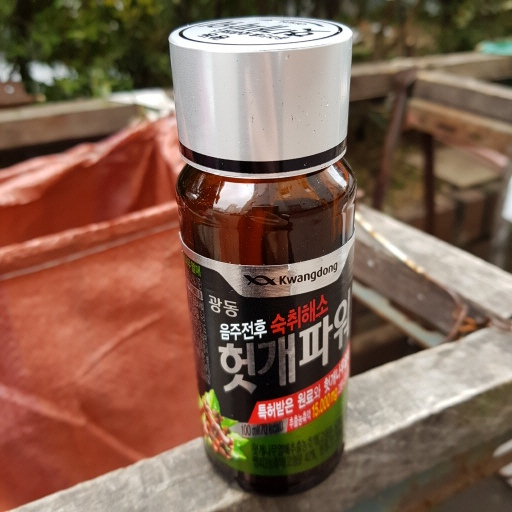Glass_3: (166, 16, 362, 497)
